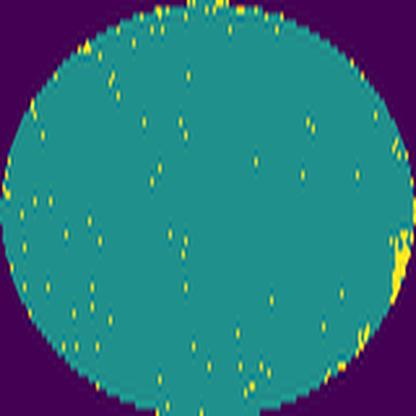Edge-Loc: (388, 228, 416, 306)
